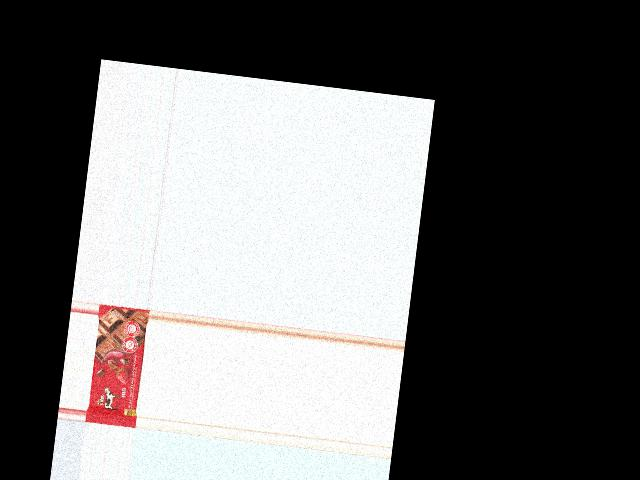chocolate: (85, 304, 150, 429)
